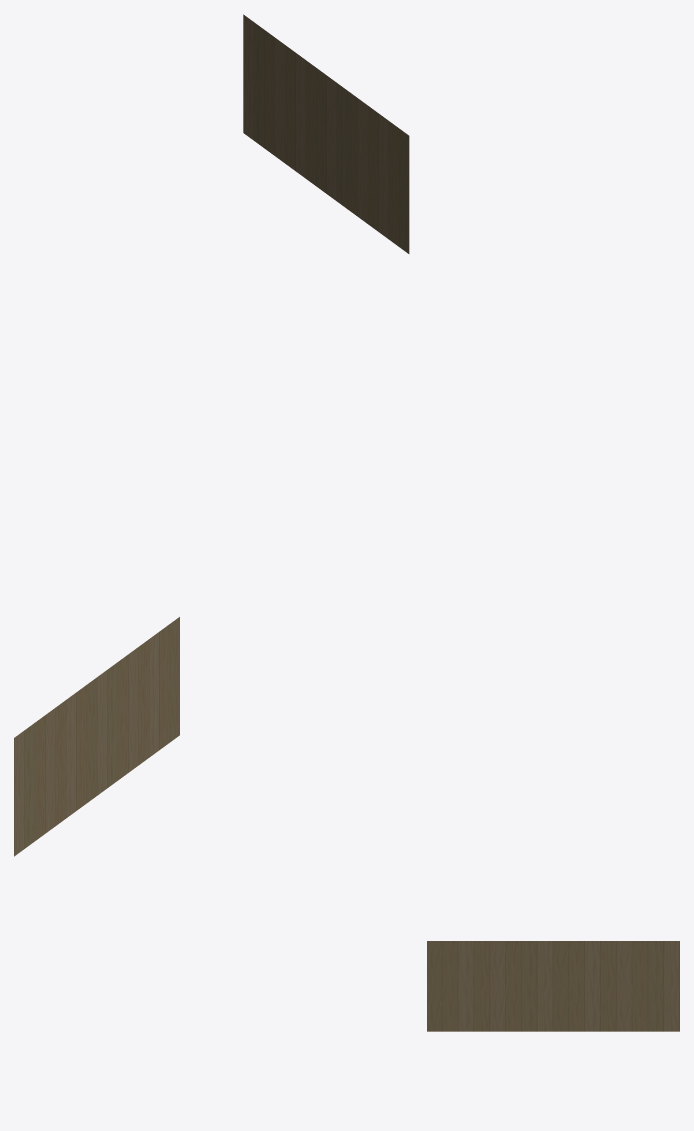
The model's file is kd_stage_135c43_4_11.glb.
3 renders of one model, top to bottom at view 1: azimuth 30°, elevation 25°; view 2: azimuth 150°, elevation 25°; view 3: azimuth 270°, elevation 25°, orthographic. The views are drawn at different scales.
Parts seen in each view (by area): view 1: kd_stage_135c43_4_11; view 2: kd_stage_135c43_4_11; view 3: kd_stage_135c43_4_11.
Part boxes in pixels (x1=…): kd_stage_135c43_4_11: x1=243, y1=14, x2=409, y2=253; kd_stage_135c43_4_11: x1=14, y1=617, x2=179, y2=856; kd_stage_135c43_4_11: x1=427, y1=941, x2=679, y2=1031.
Bounding box in the file's own units: 1.11 × 0.5475 × 3.65.
Materials: 1 (1 with a texture image).
